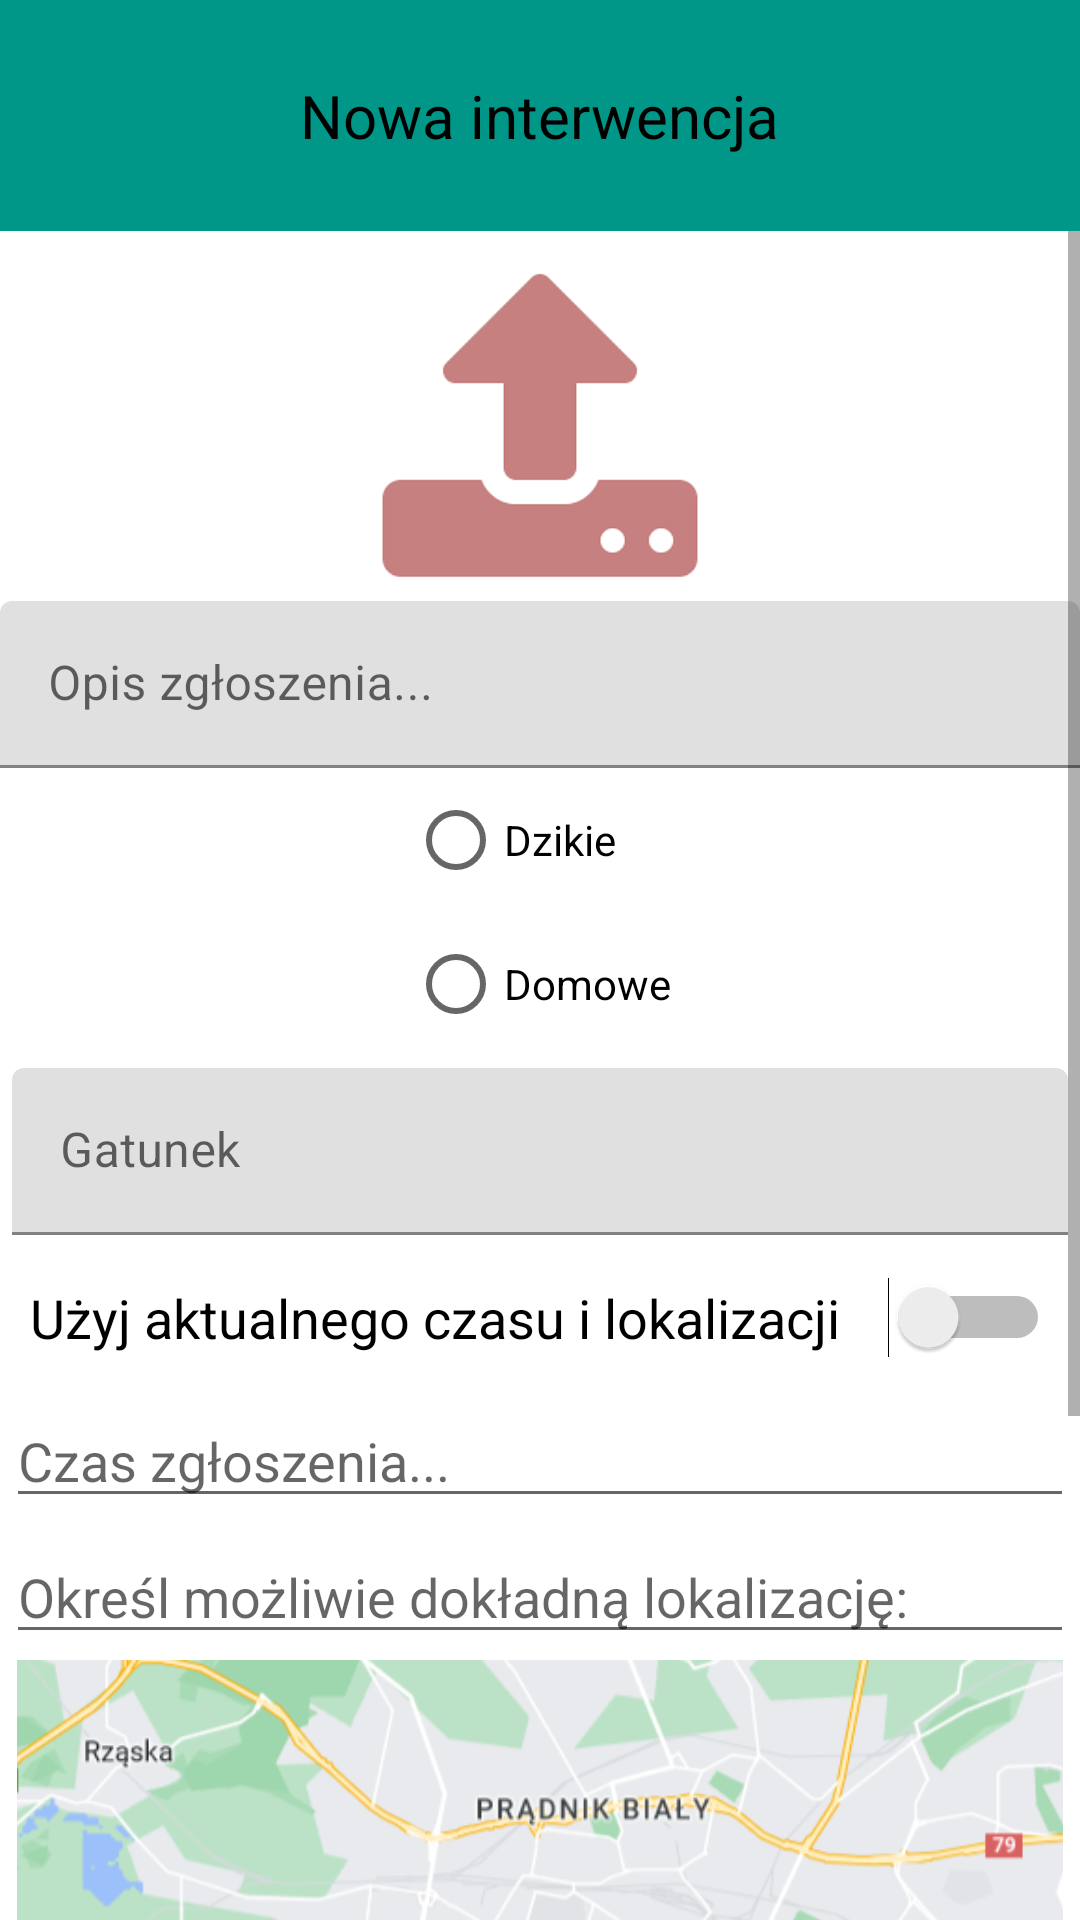

Icon bounding boxes for this 1080px×1920px phone screenshot, format (x1, y1, x2, y2):
upload: (382, 274, 698, 577)
